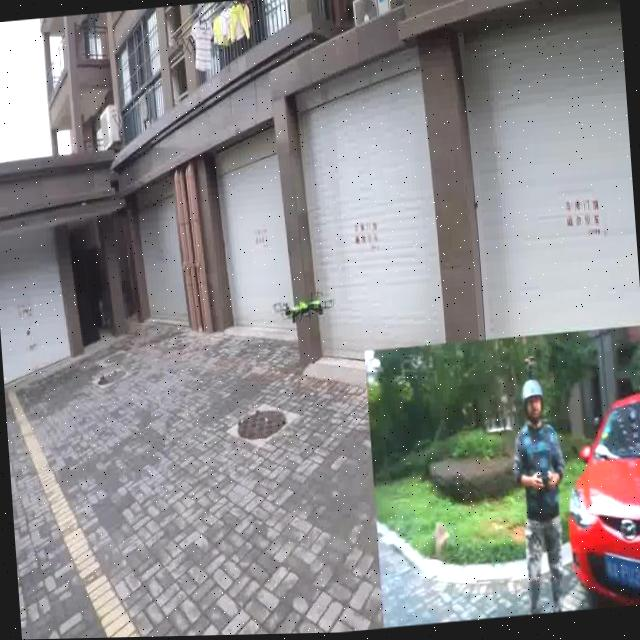drone: (272, 286, 335, 327)
